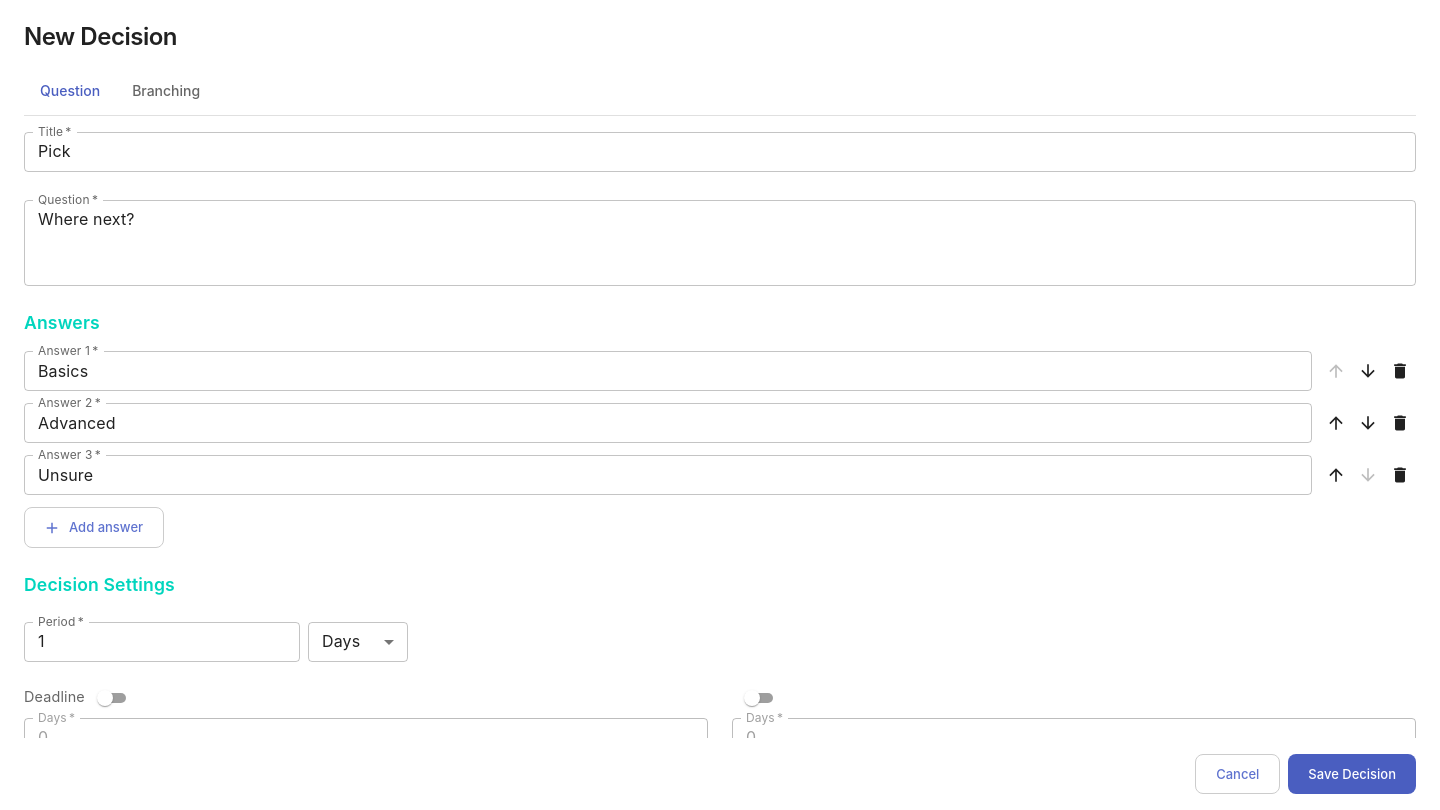
DecisionForm › routes on the saved answers in the Branching tab
Click the tab "Branching".
click(166, 91)  # box [116,67,216,115]
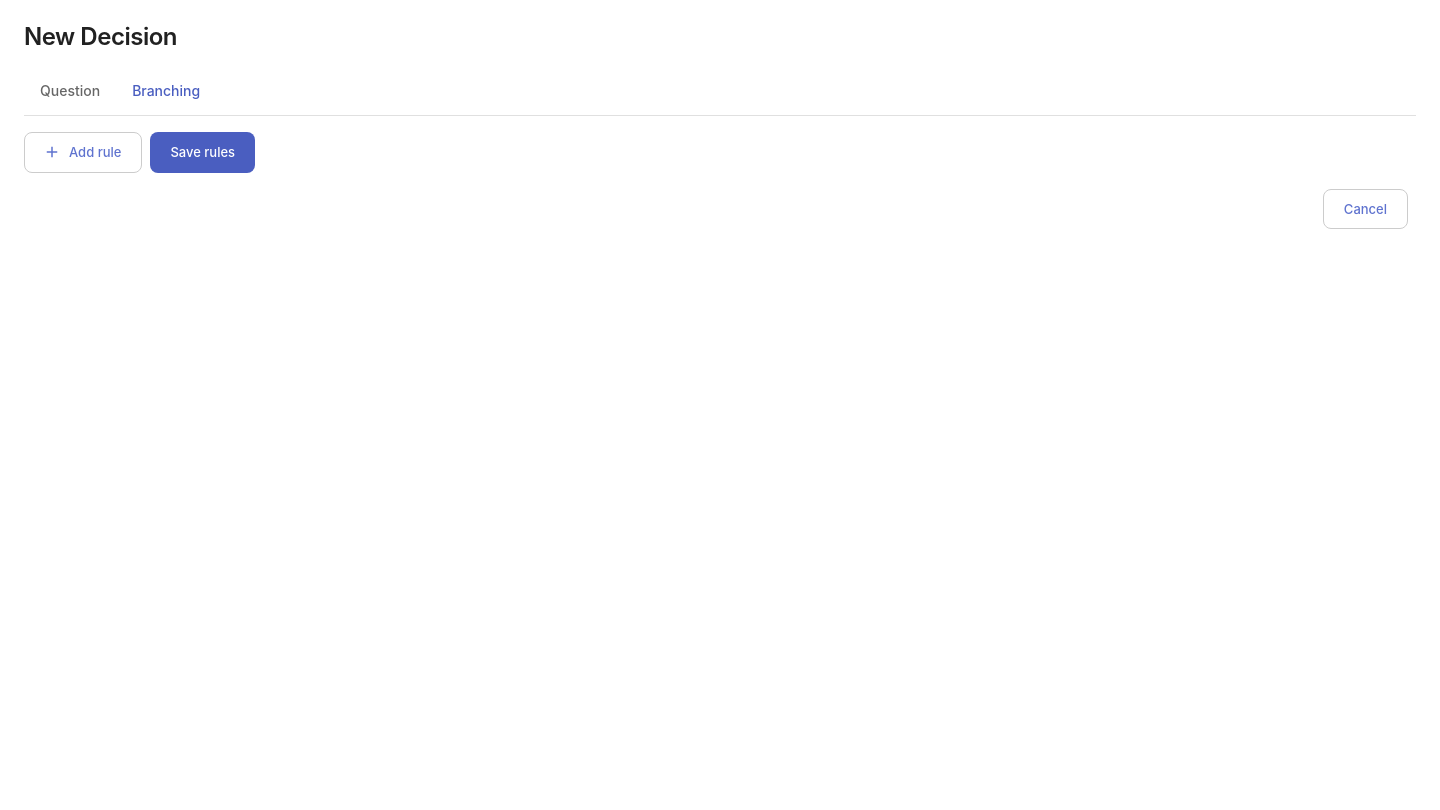
Click the button "Add rule".
click(83, 152)  # box [24,132,142,173]
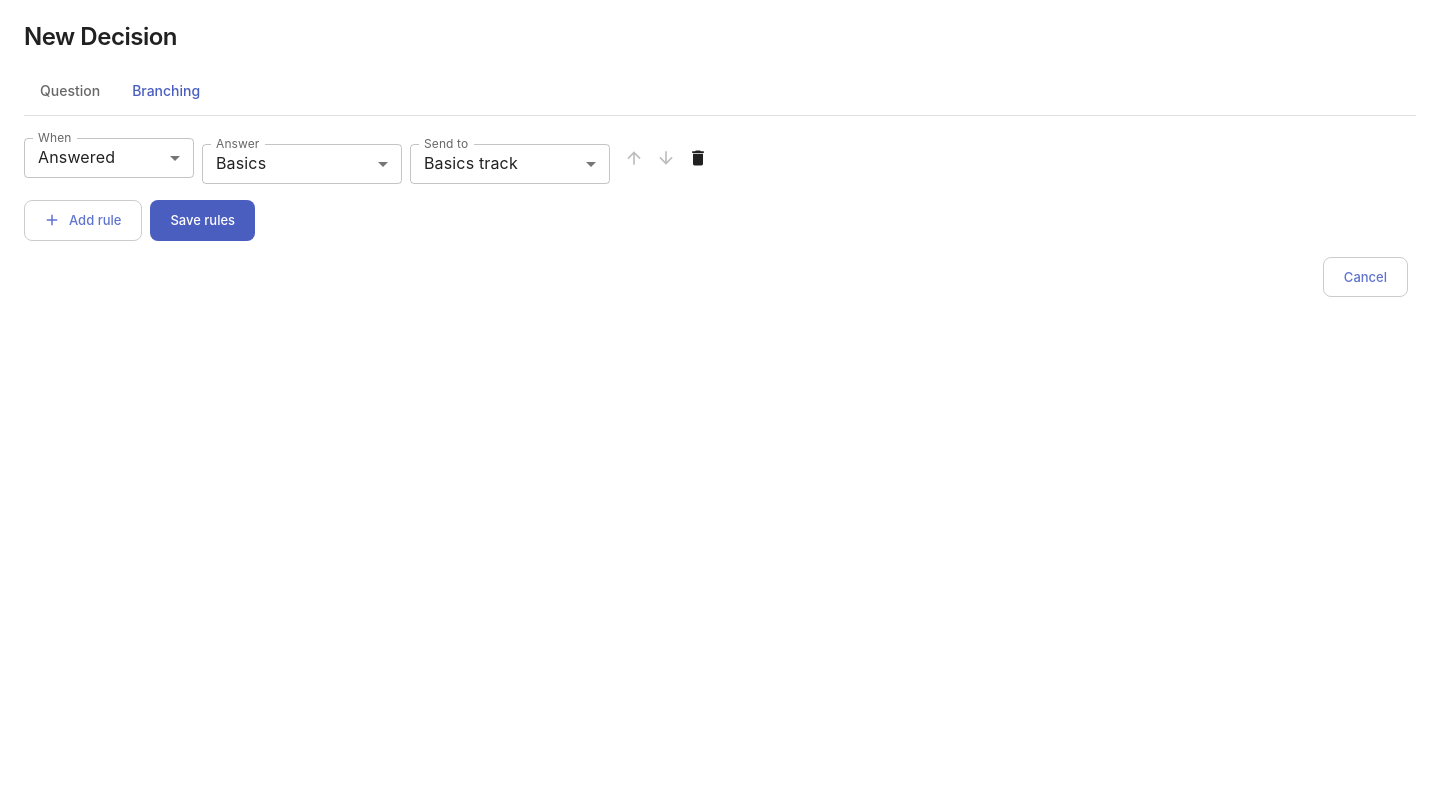
Expected: the dropdown named "When" reads "Answered", [38,147,115,167]
Expected: the dropdown named "Answer" reads "Basics", [216,153,266,173]
